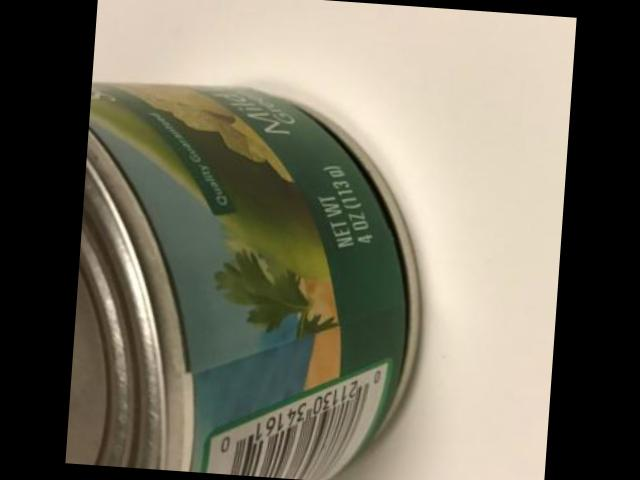metal: (64, 85, 415, 480)
